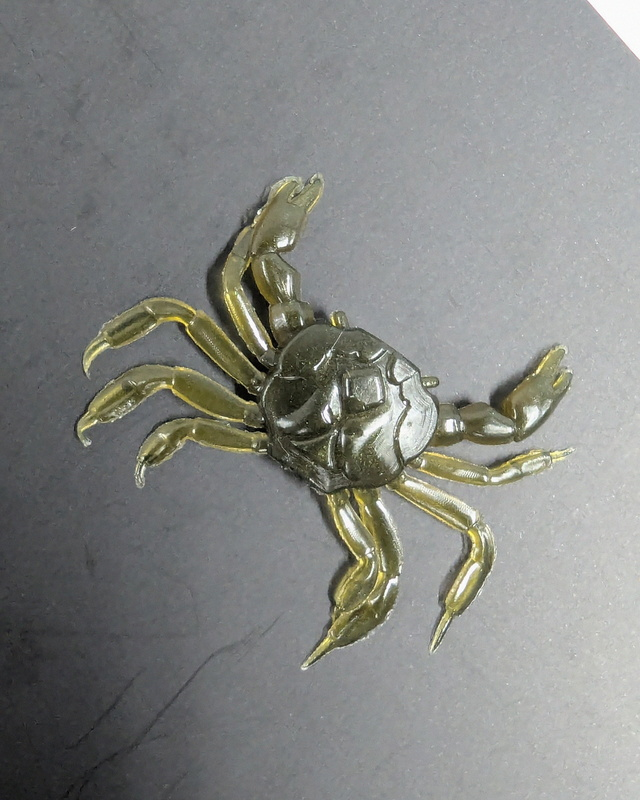crab2: (72, 172, 579, 671)
